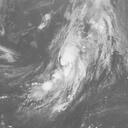cyclone: (46, 43, 89, 89)
